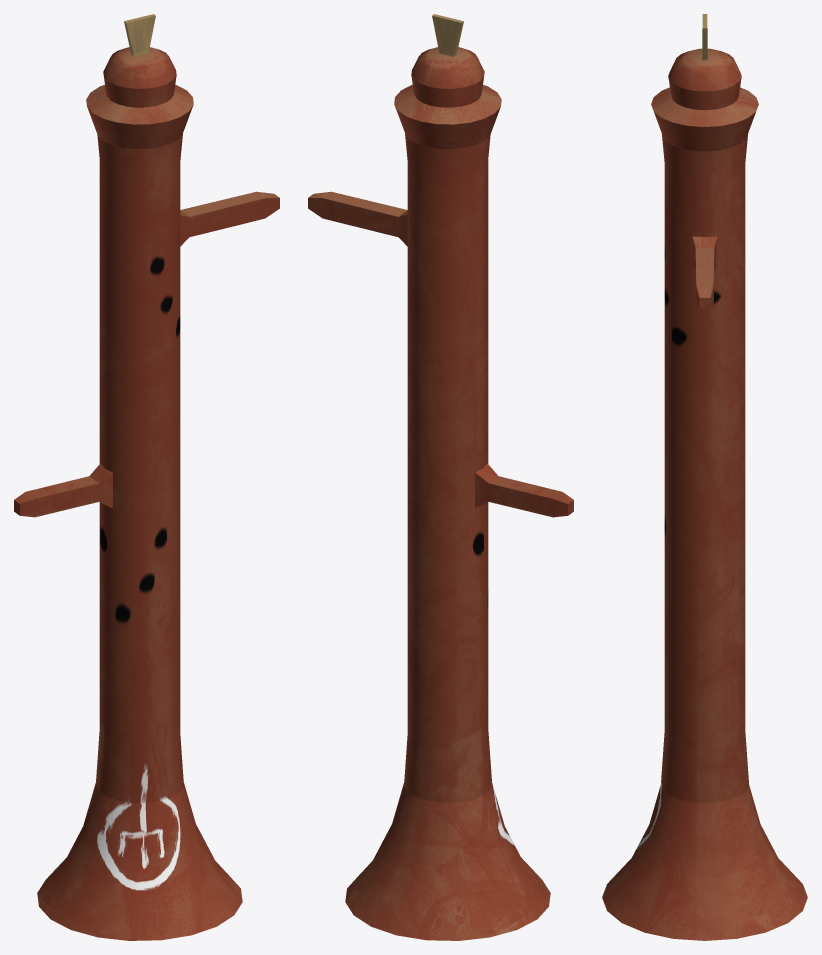
The model's file is Shawm.obj.
3 renders of one model, left to right at view 1: azimuth 30°, elevation 25°; view 2: azimuth 150°, elevation 25°; view 3: azimuth 270°, elevation 25°, orthographic.
Visible parts, largest first — view 1: Shawm_Body_lambert2SG, Reed_lambert3SG; view 2: Shawm_Body_lambert2SG, Reed_lambert3SG; view 3: Shawm_Body_lambert2SG.
Part boxes in pixels (left/top/right/bottom): Shawm_Body_lambert2SG: left=14, top=47, right=279, bottom=940; Reed_lambert3SG: left=124, top=14, right=155, bottom=56; Shawm_Body_lambert2SG: left=308, top=47, right=573, bottom=940; Reed_lambert3SG: left=432, top=14, right=463, bottom=56; Shawm_Body_lambert2SG: left=602, top=48, right=807, bottom=940.
Size of the model in its own units: 2.1 by 6.79 by 1.45.
2 materials, 2 textured.
